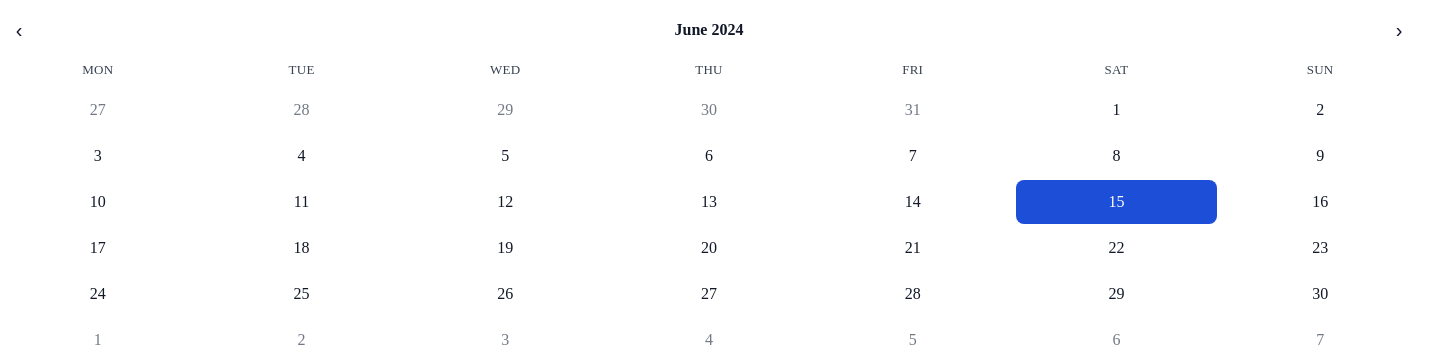
Test: NgxDatetimeCalendar › view switching › months view picks a month and returns to days
Click the button "June 2024" at coordinates (709, 30), box [45, 8, 1373, 52]
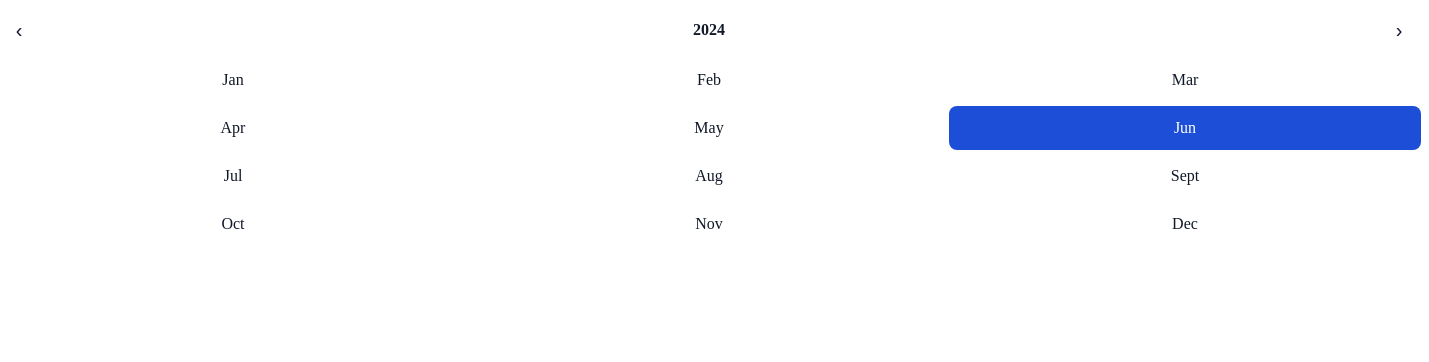
Click the cell "Dec" at coordinates (1185, 224), box [949, 202, 1421, 246]
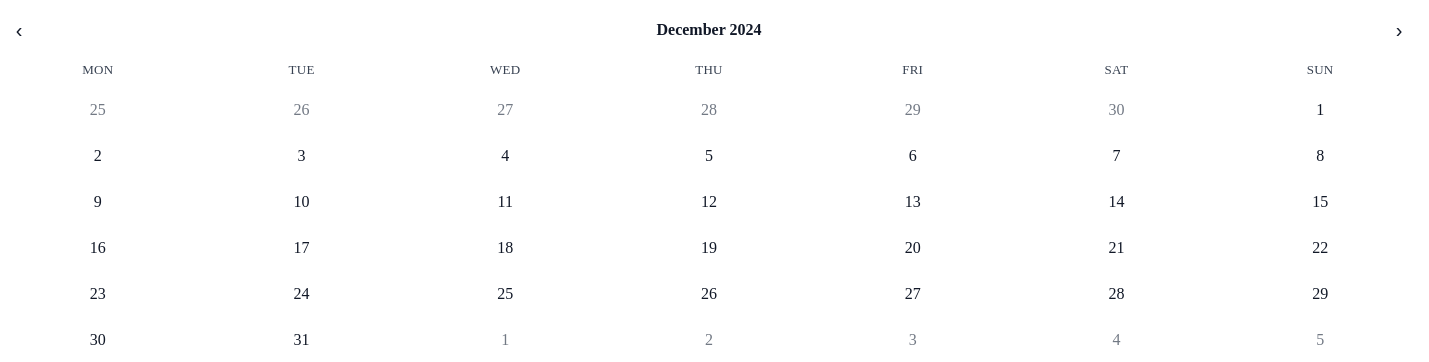
Check: the button "December 2024" is shown, box [45, 8, 1373, 52]
